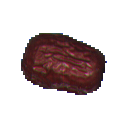gd: (17, 26, 107, 98)
